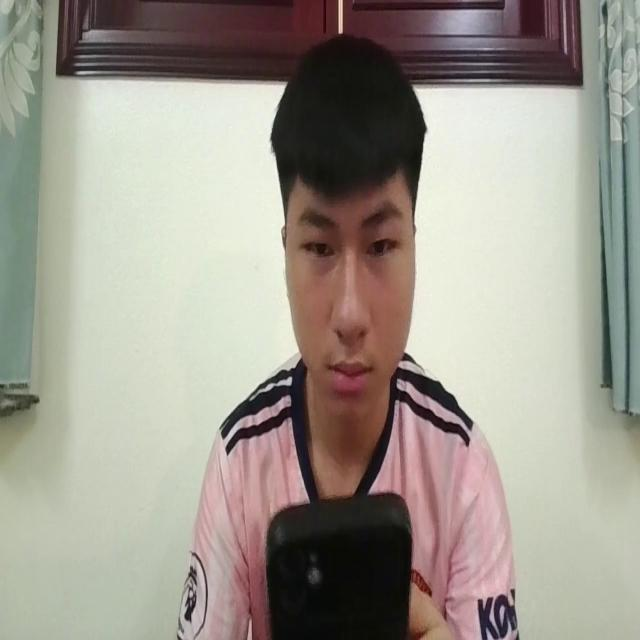phone: (263, 486, 415, 640)
student: (186, 37, 517, 640)
